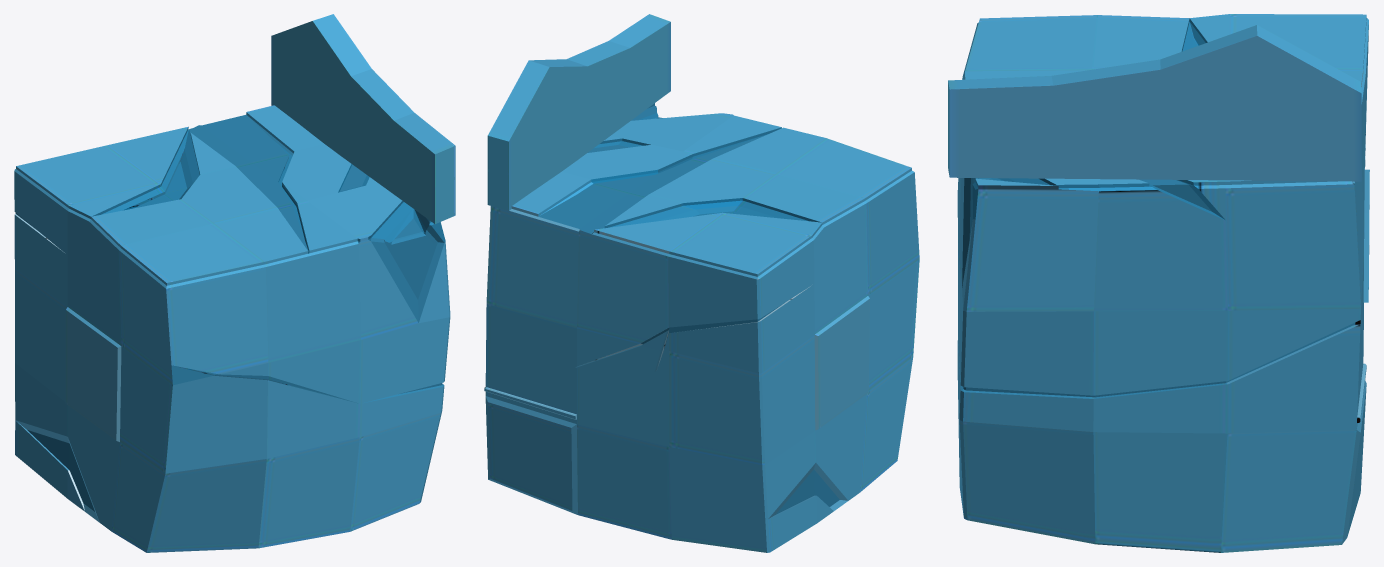
File: Platform_Meshes.fbx
3 renders of one model, left to right at view 1: azimuth 30°, elevation 25°; view 2: azimuth 150°, elevation 25°; view 3: azimuth 270°, elevation 25°, orthographic. The views are drawn at different scales.
Parts seen in each view (by area): view 1: ice block, ice back; view 2: ice block, ice back; view 3: ice block, ice back.
Boxes of the visible parts, bbox=[...] form: ice block: bbox=[14, 105, 450, 552]; ice back: bbox=[271, 14, 455, 223]; ice block: bbox=[484, 103, 919, 552]; ice back: bbox=[487, 14, 670, 210]; ice block: bbox=[957, 14, 1369, 552]; ice back: bbox=[948, 25, 1361, 181].
Size of the model in its own units: 206 by 282 by 207.
